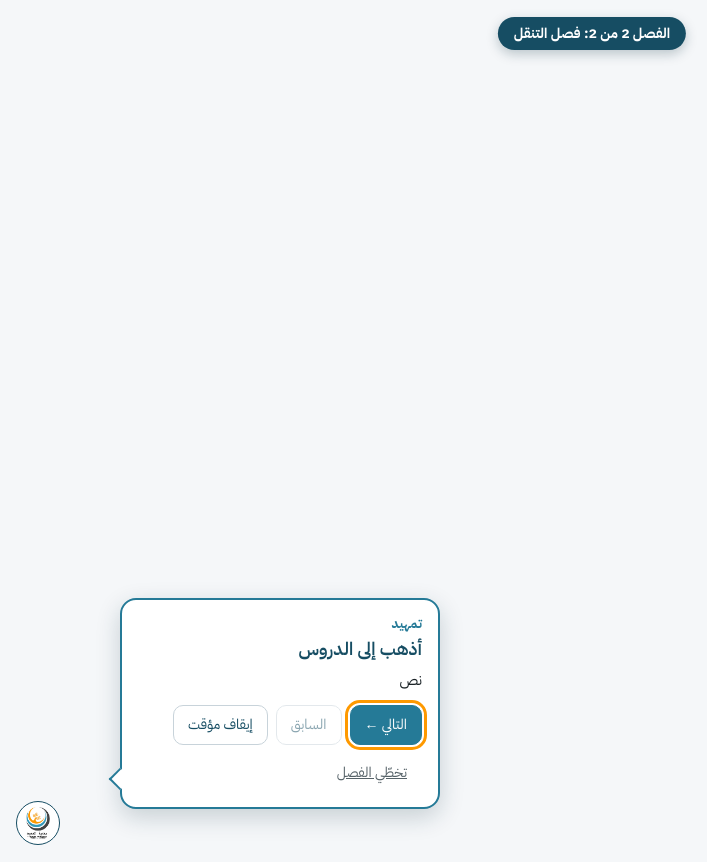
Scenario: a page the engine opens itself does not pause the journey
Click the button "التالي ←": (386, 725) left=350, top=705, right=422, bottom=745
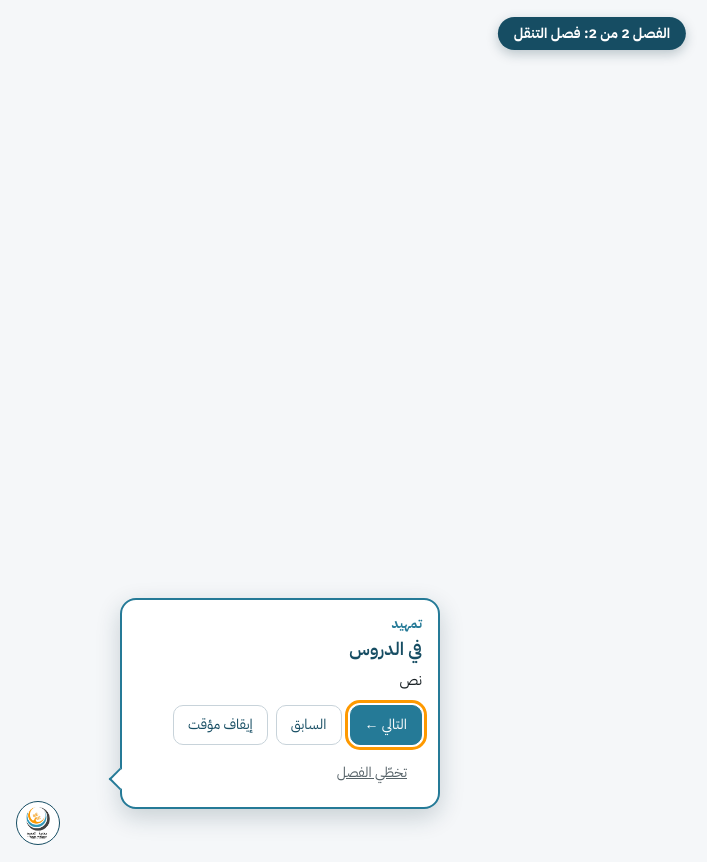
expect the heading "في الدروس" is shown: met, box left=349, top=635, right=422, bottom=662
